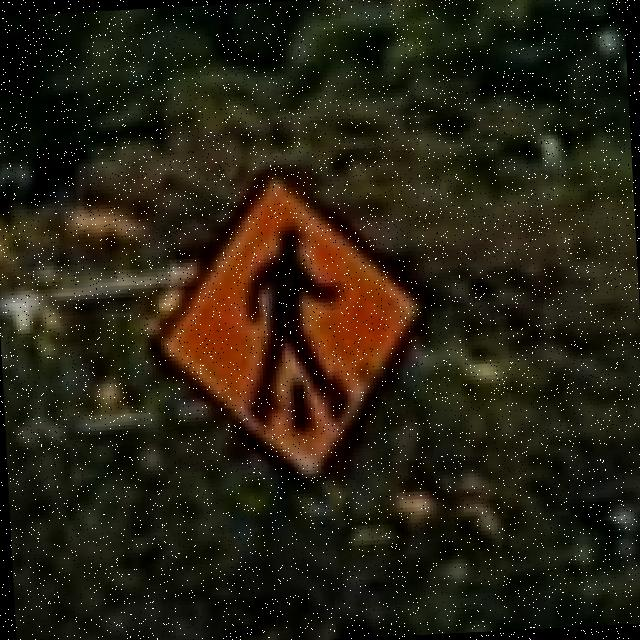Przejscie dla pieszych: (170, 170, 418, 481)
